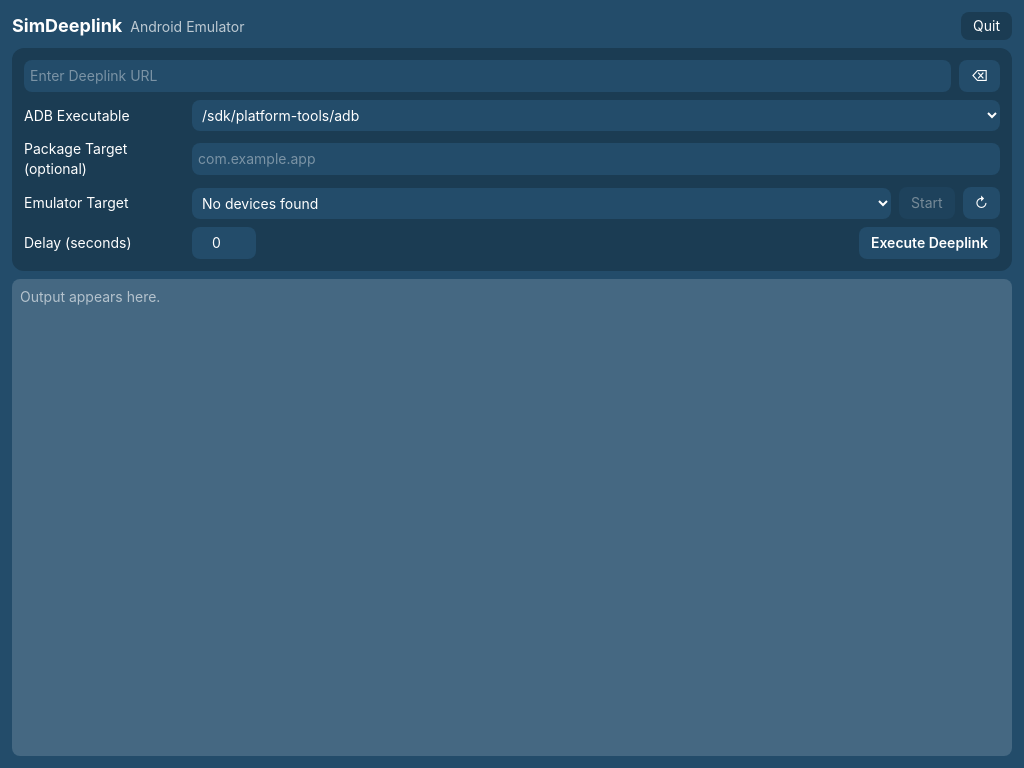
Test case: delay › keeps the delay between 0 and 10 seconds
The image size is (1024, 768).
Expected: the field labelled "Deeplink URL" is shown, [24,60,951,92]
Replace the text in the number field labelled "Delay" with "99". click: (224, 243)
box: [192,227,256,259]
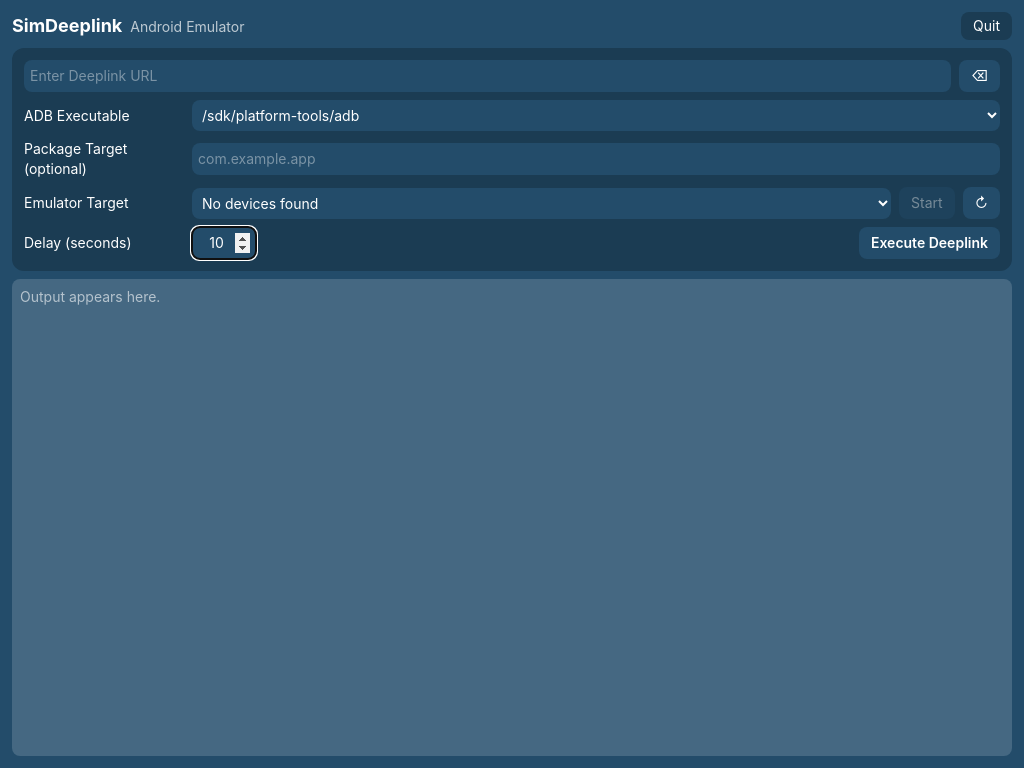
Expected: the number field labelled "Delay" holds "10", [192,227,256,259]
